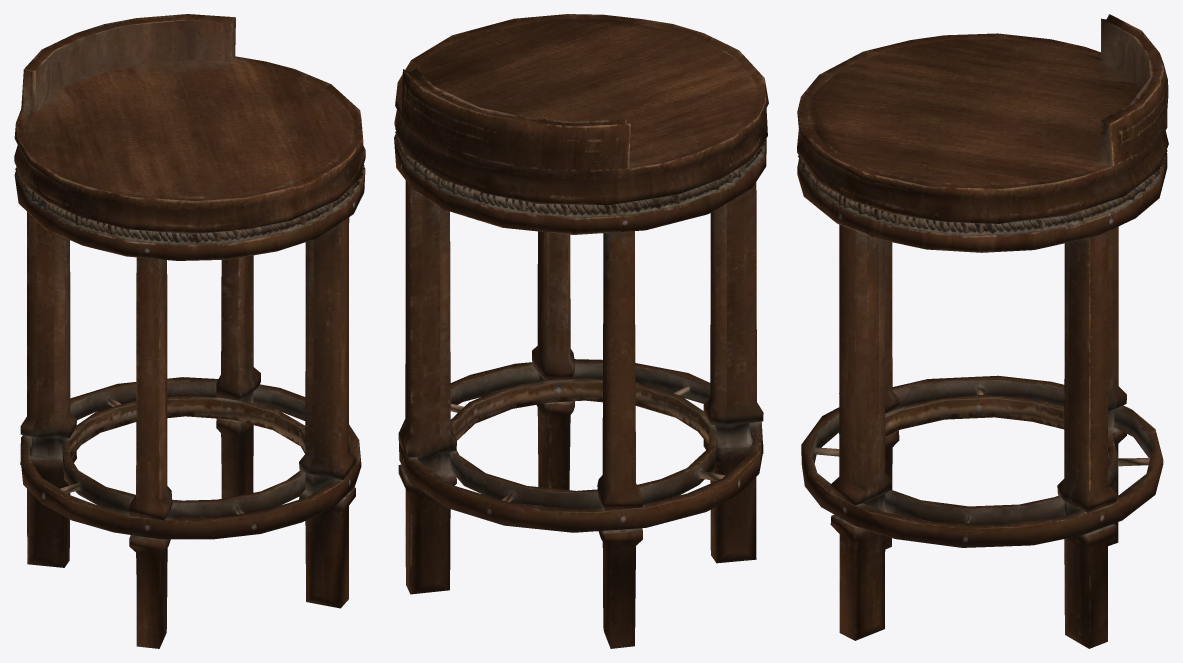
Rendered from bar_wood.glb.
3 views of the same model, side by side, from view 1: azimuth 30°, elevation 25°; view 2: azimuth 150°, elevation 25°; view 3: azimuth 270°, elevation 25° (orthographic). The views are drawn at different scales.
Visible parts, largest first — view 1: bar_wood; view 2: bar_wood; view 3: bar_wood.
Boxes of the visible parts, bbox=[...] form: bar_wood: bbox=[14, 14, 365, 648]; bar_wood: bbox=[394, 14, 768, 648]; bar_wood: bbox=[797, 14, 1168, 648].
Bounding box in the file's own units: 0.4828 × 0.7504 × 0.4846.
1 material, 1 textured.
